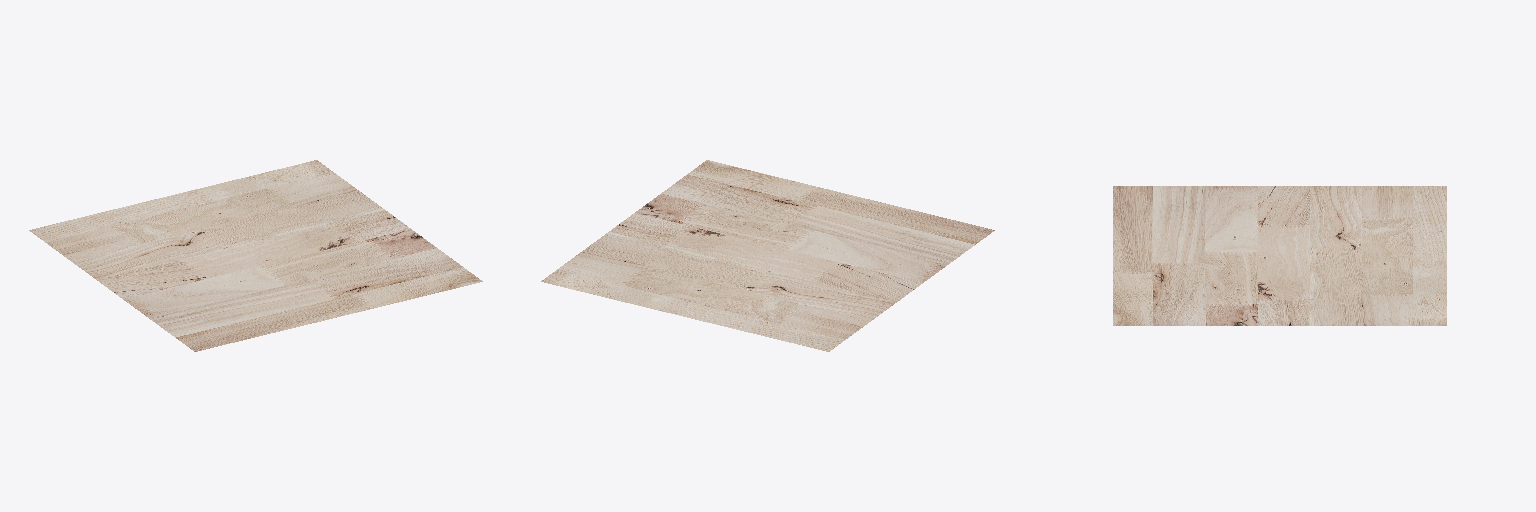
The picture shows the model from 3 angles: view 1: azimuth 30°, elevation 25°; view 2: azimuth 150°, elevation 25°; view 3: azimuth 270°, elevation 25°; orthographic projection.
Parts seen in each view (by area): view 1: Plane; view 2: Plane; view 3: Plane.
Boxes of the visible parts, box(x1,y1,x2,y2) form: Plane: box(29, 160, 482, 351); Plane: box(541, 160, 994, 351); Plane: box(1113, 186, 1446, 325).
Bounding box in the file's own units: 14.7 × 0 × 14.7.
1 materials, 1 textured.